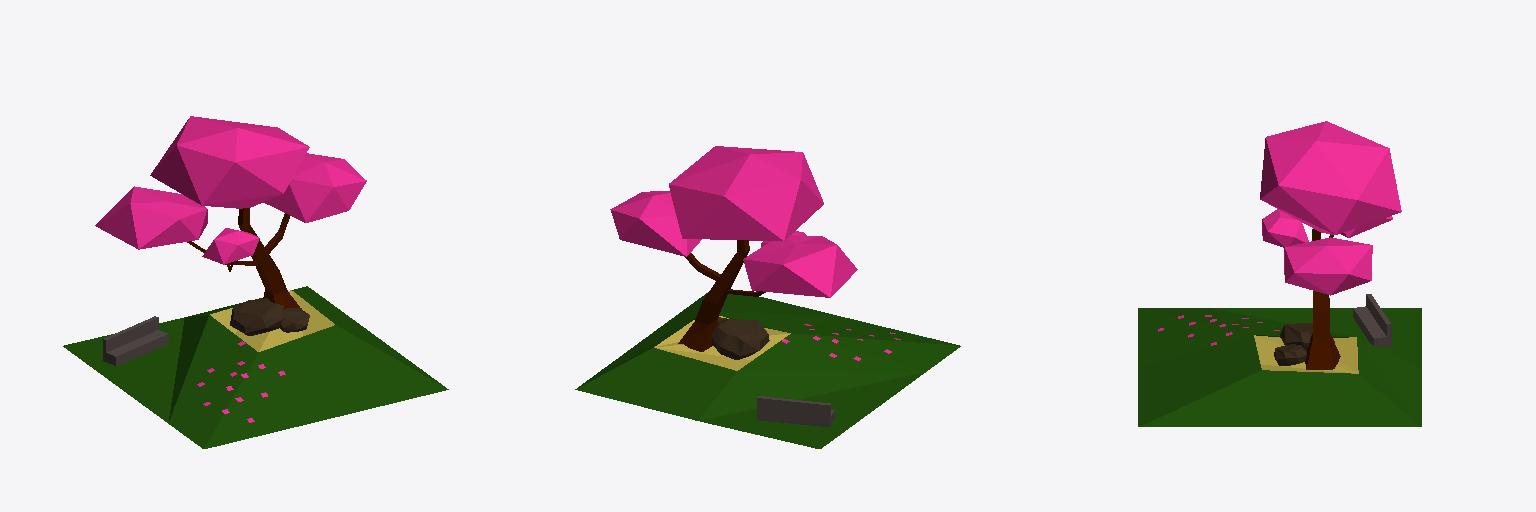
3 views of the same model, side by side, from view 1: azimuth 30°, elevation 25°; view 2: azimuth 150°, elevation 25°; view 3: azimuth 270°, elevation 25° (orthographic).
Visible parts, largest first — view 1: service_sakura_Plane.223; view 2: service_sakura_Plane.223; view 3: service_sakura_Plane.223.
Part boxes in pixels (x1,y1,x2,y2): service_sakura_Plane.223: (63,116,448,448); service_sakura_Plane.223: (575,146,960,448); service_sakura_Plane.223: (1138,121,1421,426).
Bounding box in the file's own units: 2.01 × 1.79 × 2.
Materials: 6 (1 with a texture image).